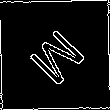M_SE: (21, 21, 89, 89)
